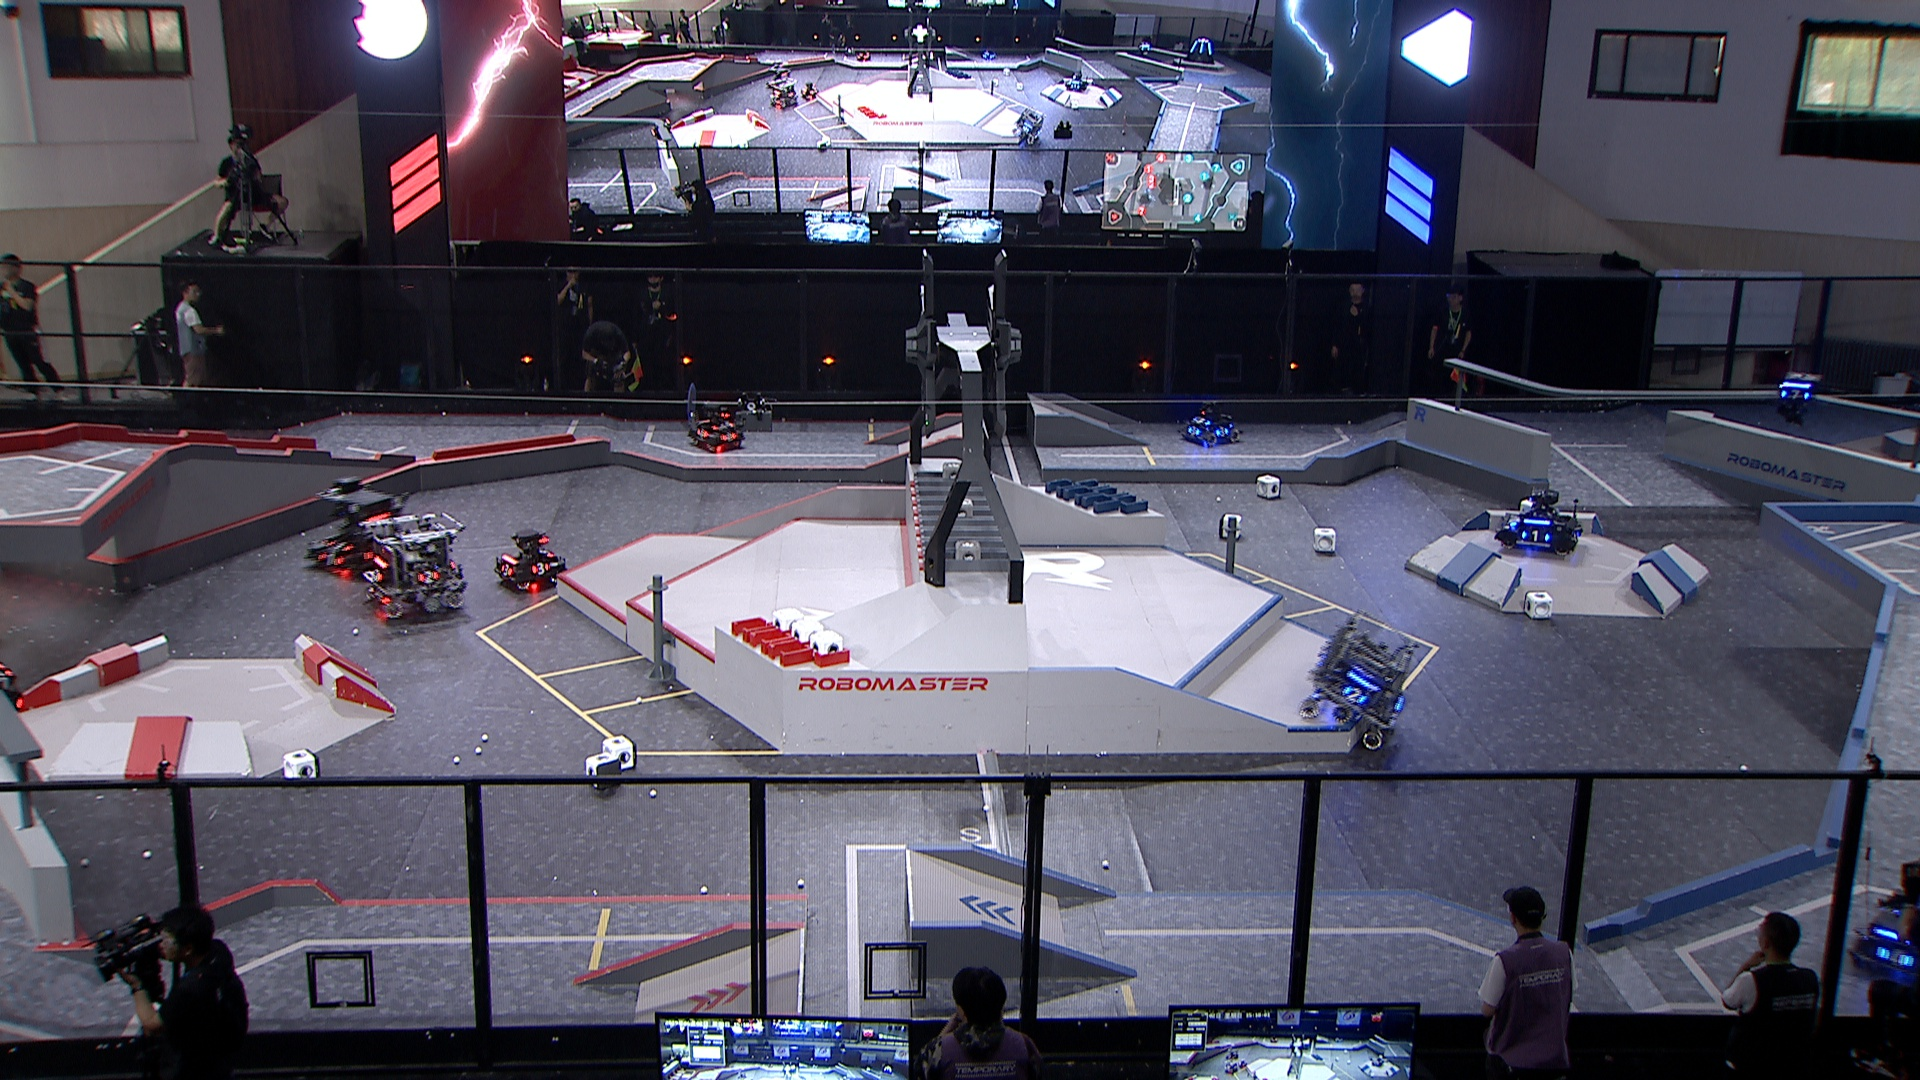armor: (1871, 943, 1913, 967), (1344, 687, 1367, 705), (324, 537, 353, 551), (415, 567, 442, 583), (318, 553, 345, 567), (1520, 529, 1551, 542), (1782, 389, 1812, 401), (527, 560, 551, 575), (716, 429, 737, 443), (1189, 415, 1211, 429), (367, 566, 382, 583), (500, 562, 514, 578), (694, 425, 711, 438), (535, 546, 556, 556), (711, 422, 735, 431), (1505, 513, 1519, 527), (1185, 425, 1201, 438), (1215, 425, 1232, 436)
car: (1298, 612, 1419, 750), (357, 510, 465, 621), (305, 472, 406, 583), (1847, 884, 1920, 982), (1493, 484, 1582, 556), (493, 529, 568, 593), (686, 400, 745, 452), (1183, 396, 1242, 447)
ignore: (764, 76, 802, 109), (1013, 109, 1044, 144), (1183, 38, 1218, 65), (647, 115, 671, 142), (1065, 69, 1091, 94)
watcher: (1774, 371, 1822, 431)
